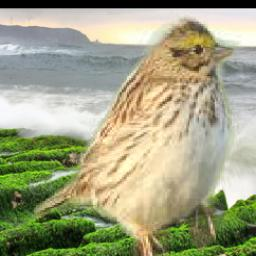Sparrow: (34, 12, 243, 256)
